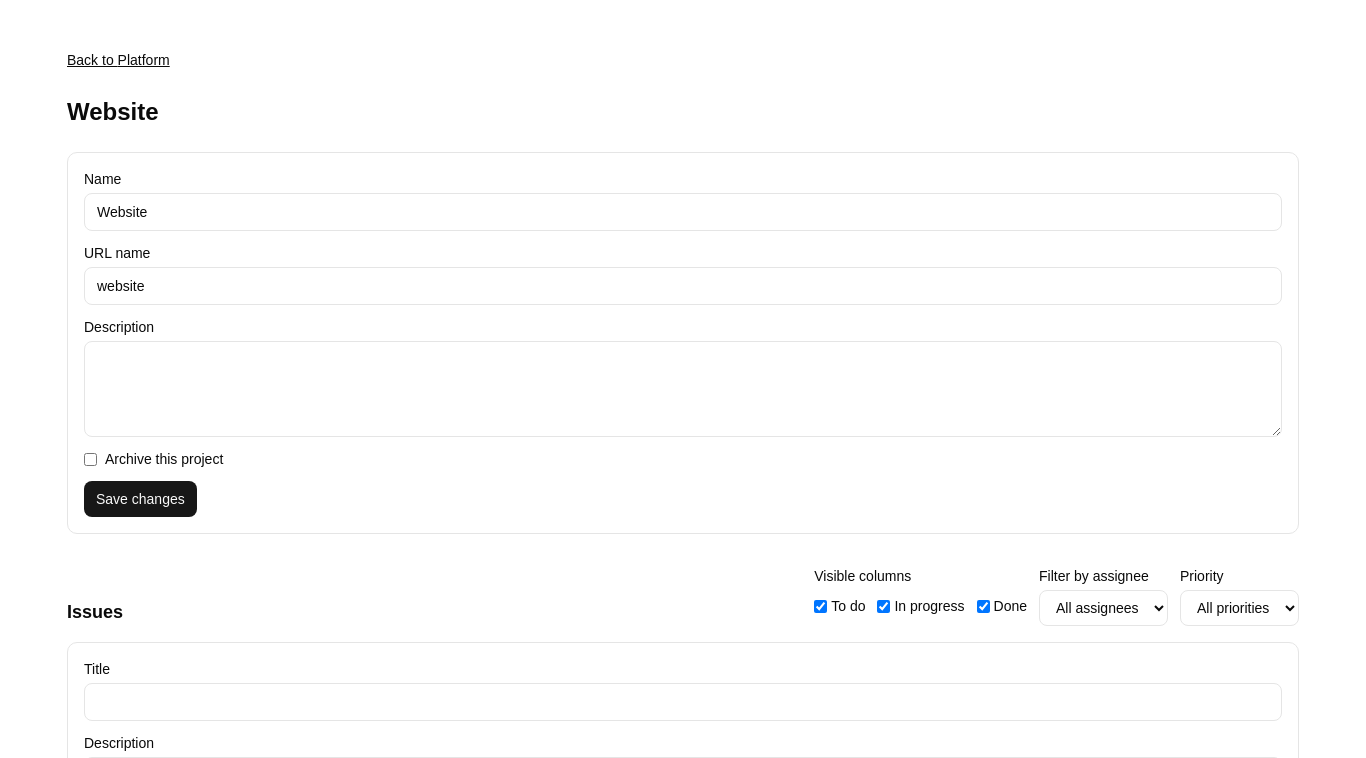
Scenario: ProjectPage › creates an issue in the selected Kanban status
This screenshot has width=1366, height=758.
Step 1. Type "Start implementation" into the field labelled "Title" → (683, 702), box [84, 683, 1282, 721]
(page scrolled)
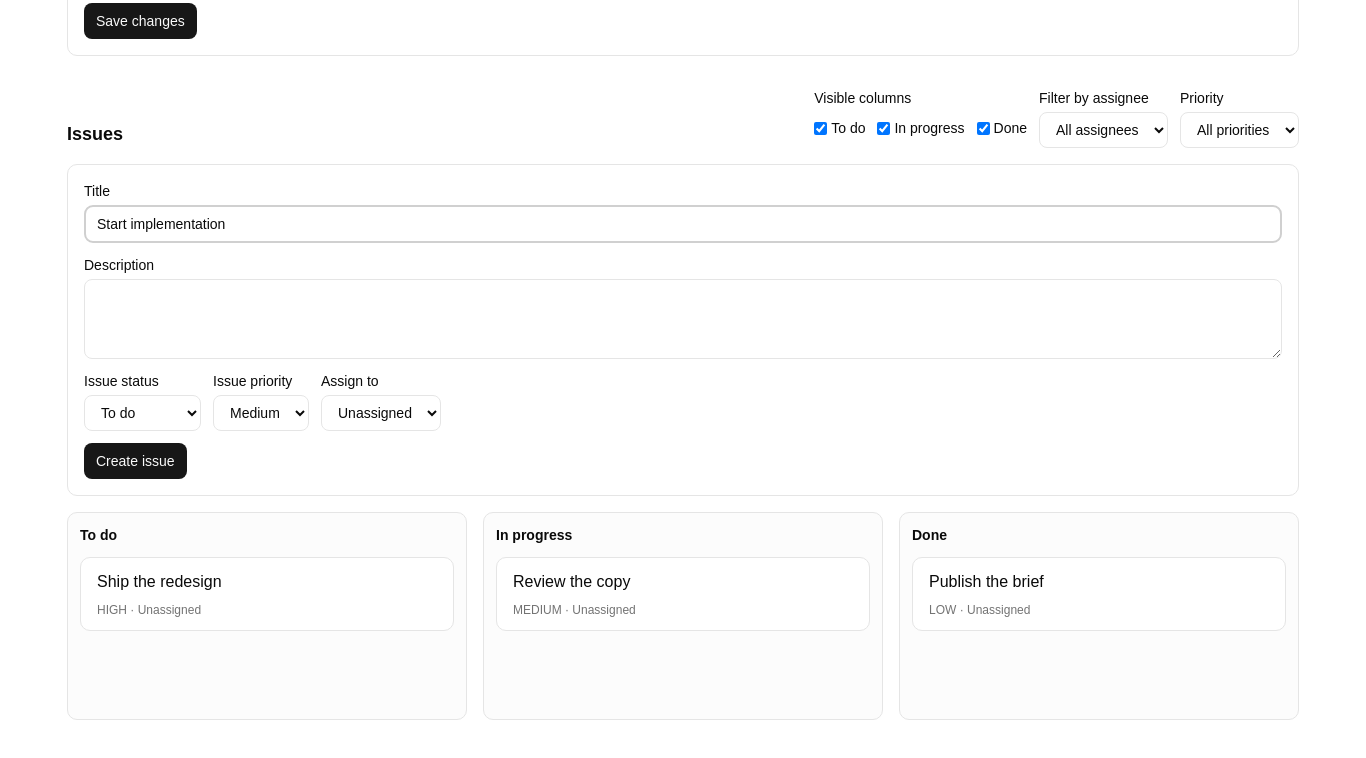
Step 2. Select "In progress" in the dropdown labelled "Issue status" → (142, 413), box [84, 395, 201, 431]
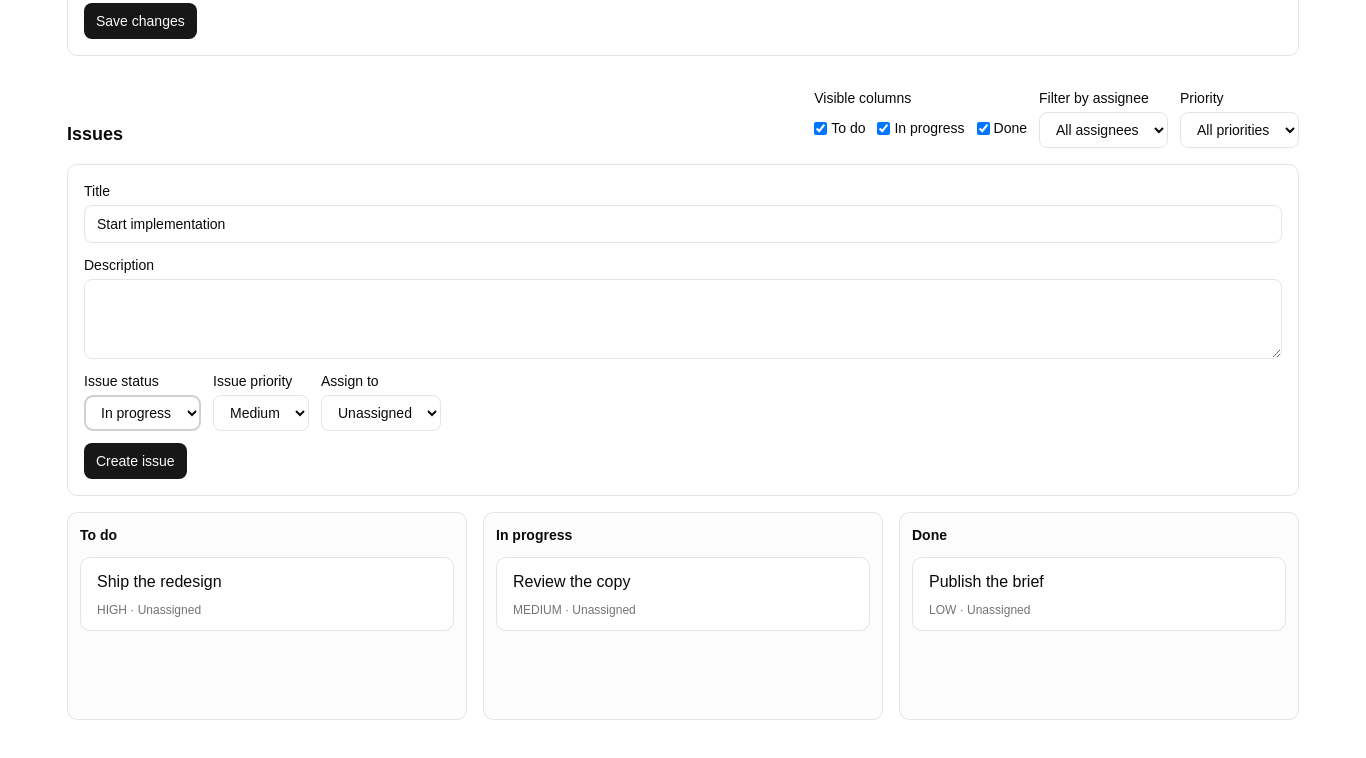
Step 3. Click the button "Create issue" → (135, 461), box [84, 443, 187, 479]
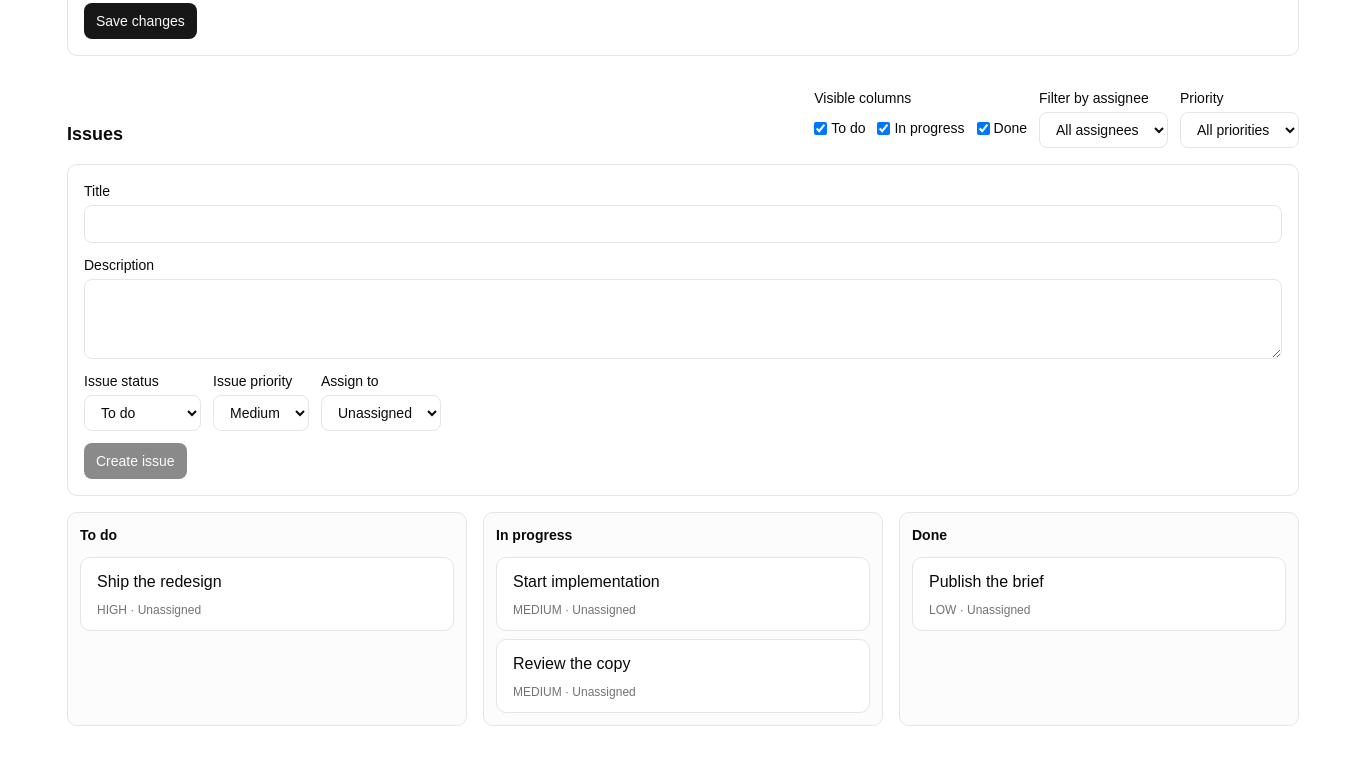
Now the text "Start implementation" is shown, box [513, 573, 660, 590]
